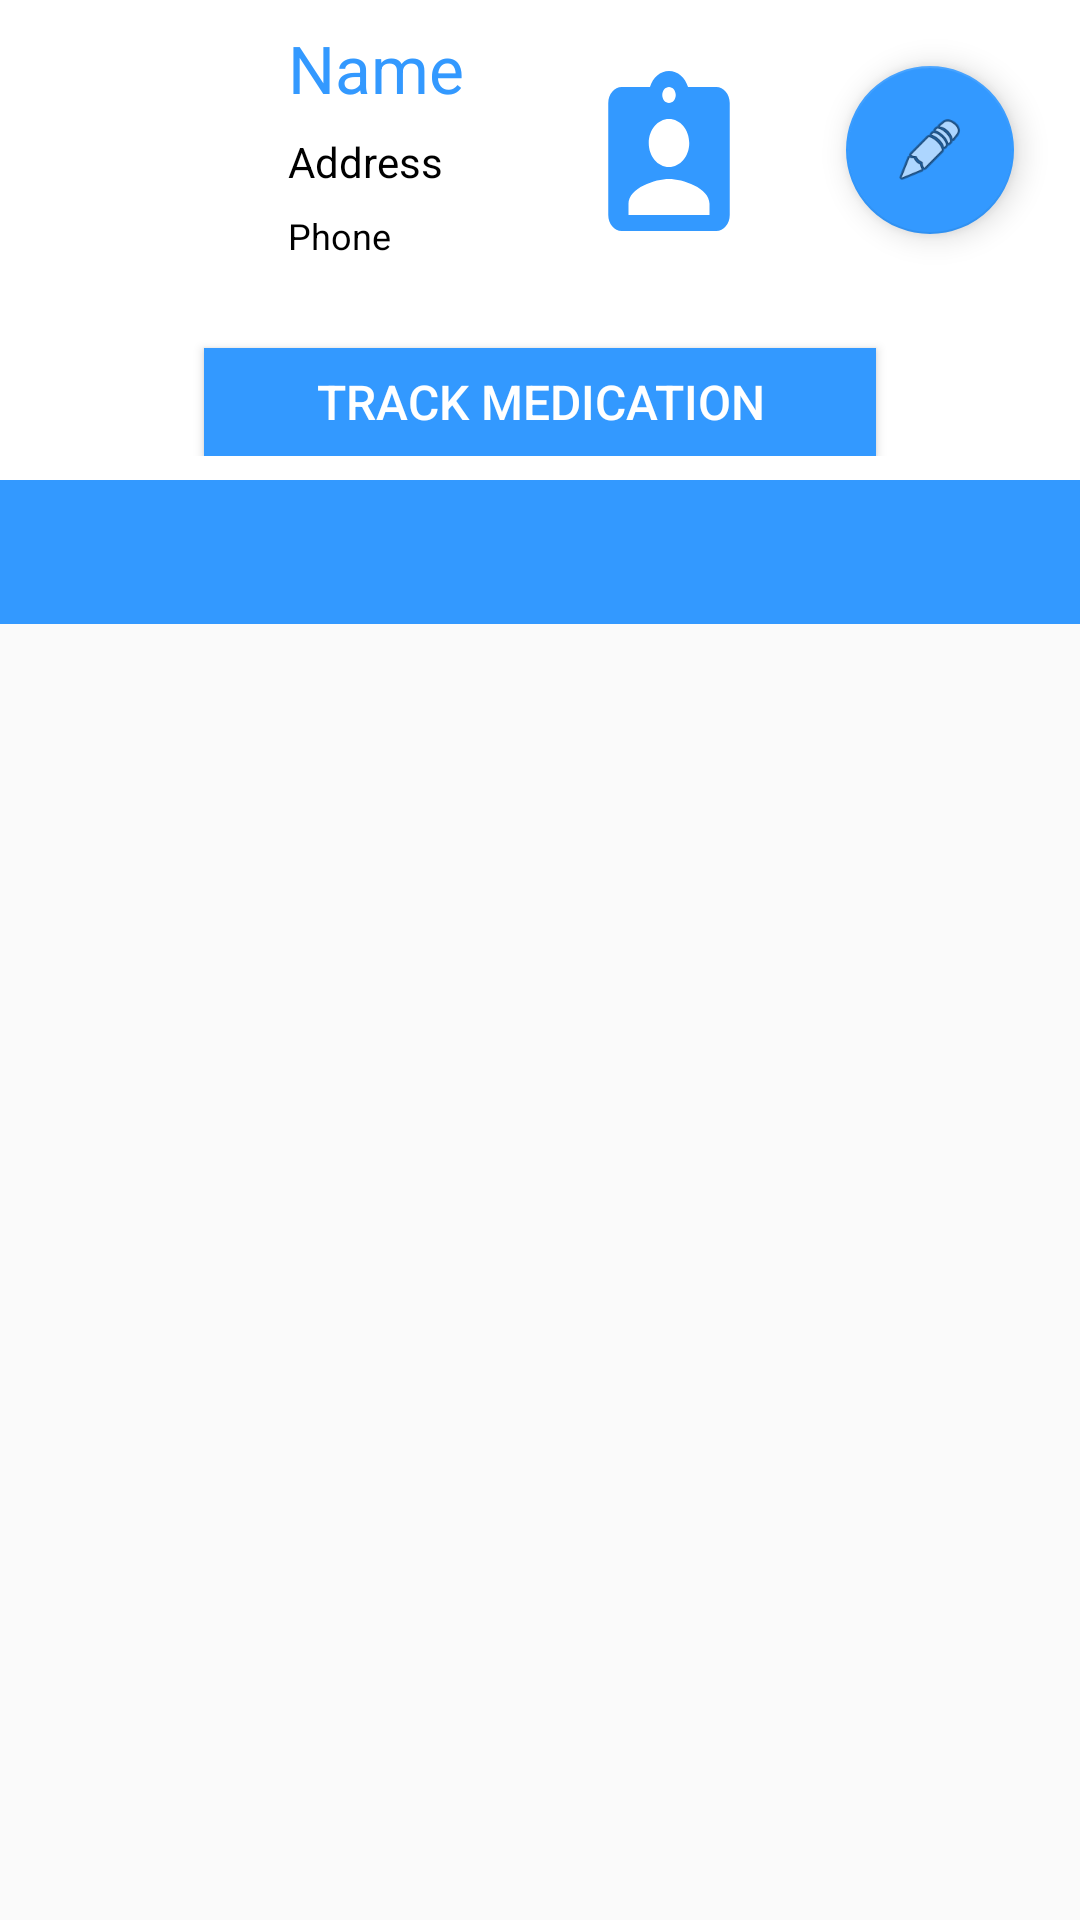

Screen size 1080px×1920px. Icon name, then its box in pixels as region(x1, y1, x2, y2):
assignment ind: region(608, 71, 730, 231)
edit: region(846, 66, 1014, 234)
